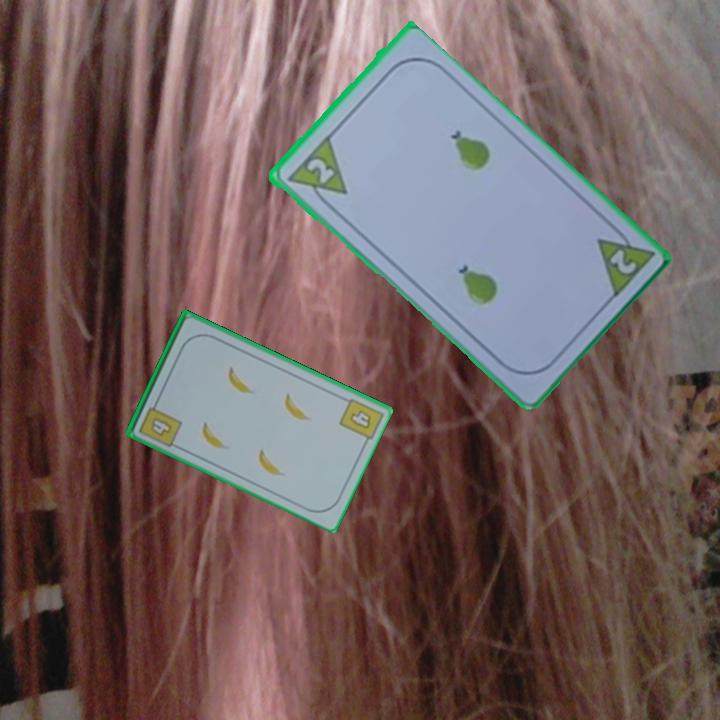2p: (282, 134, 350, 213), (592, 219, 656, 302)
4b: (135, 396, 185, 450), (346, 406, 375, 432)
